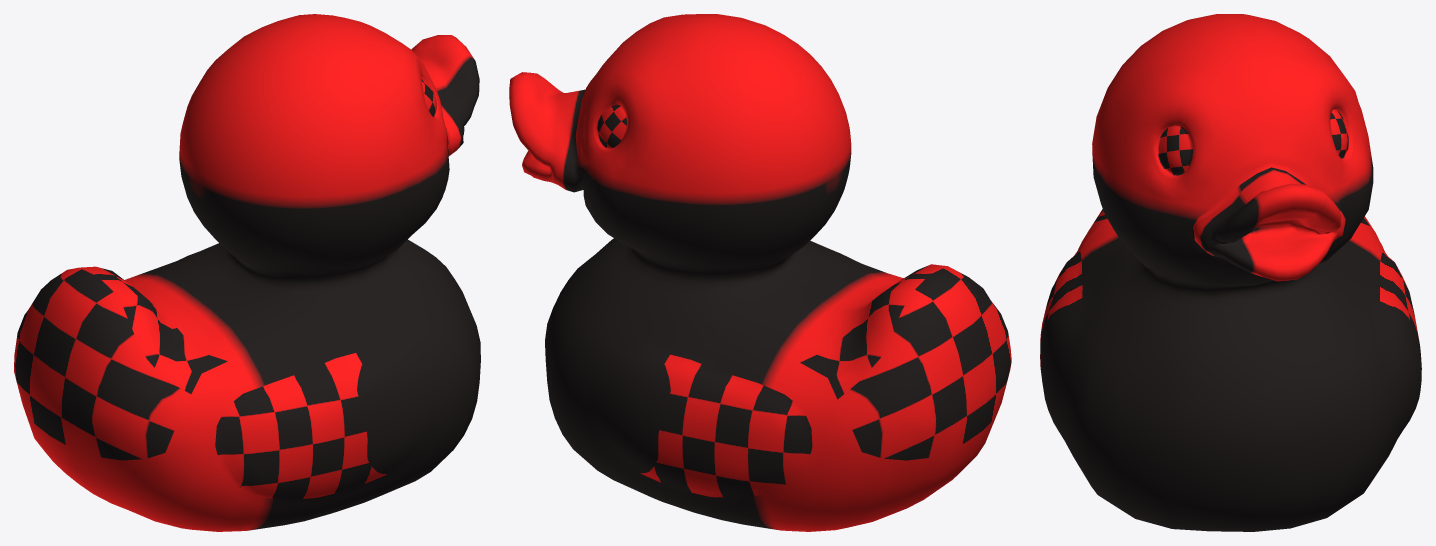
The model's file is duck_textured.glb.
3 renders of one model, left to right at view 1: azimuth 30°, elevation 25°; view 2: azimuth 150°, elevation 25°; view 3: azimuth 270°, elevation 25°, orthographic. The views are drawn at different scales.
Parts seen in each view (by area): view 1: LOD3sp; view 2: LOD3sp; view 3: LOD3sp.
Boxes of the visible parts, x1,y1,x2,y2 form: LOD3sp: (14, 14, 480, 531); LOD3sp: (509, 14, 1011, 531); LOD3sp: (1040, 14, 1421, 531).
Size of the model in its own units: 1.65 by 1.54 by 1.15.
Materials: 1 (1 with a texture image).
